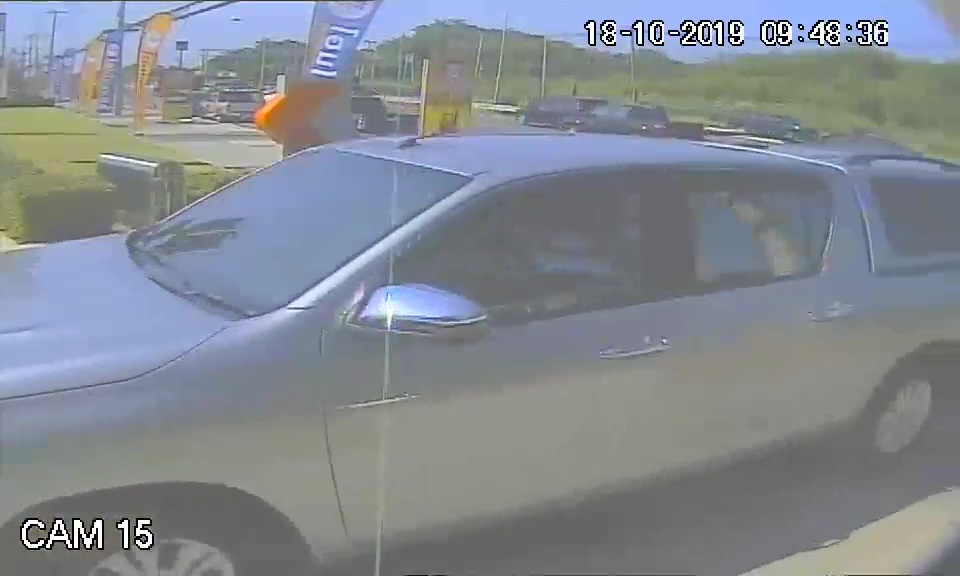pickup: (1, 128, 946, 514)
